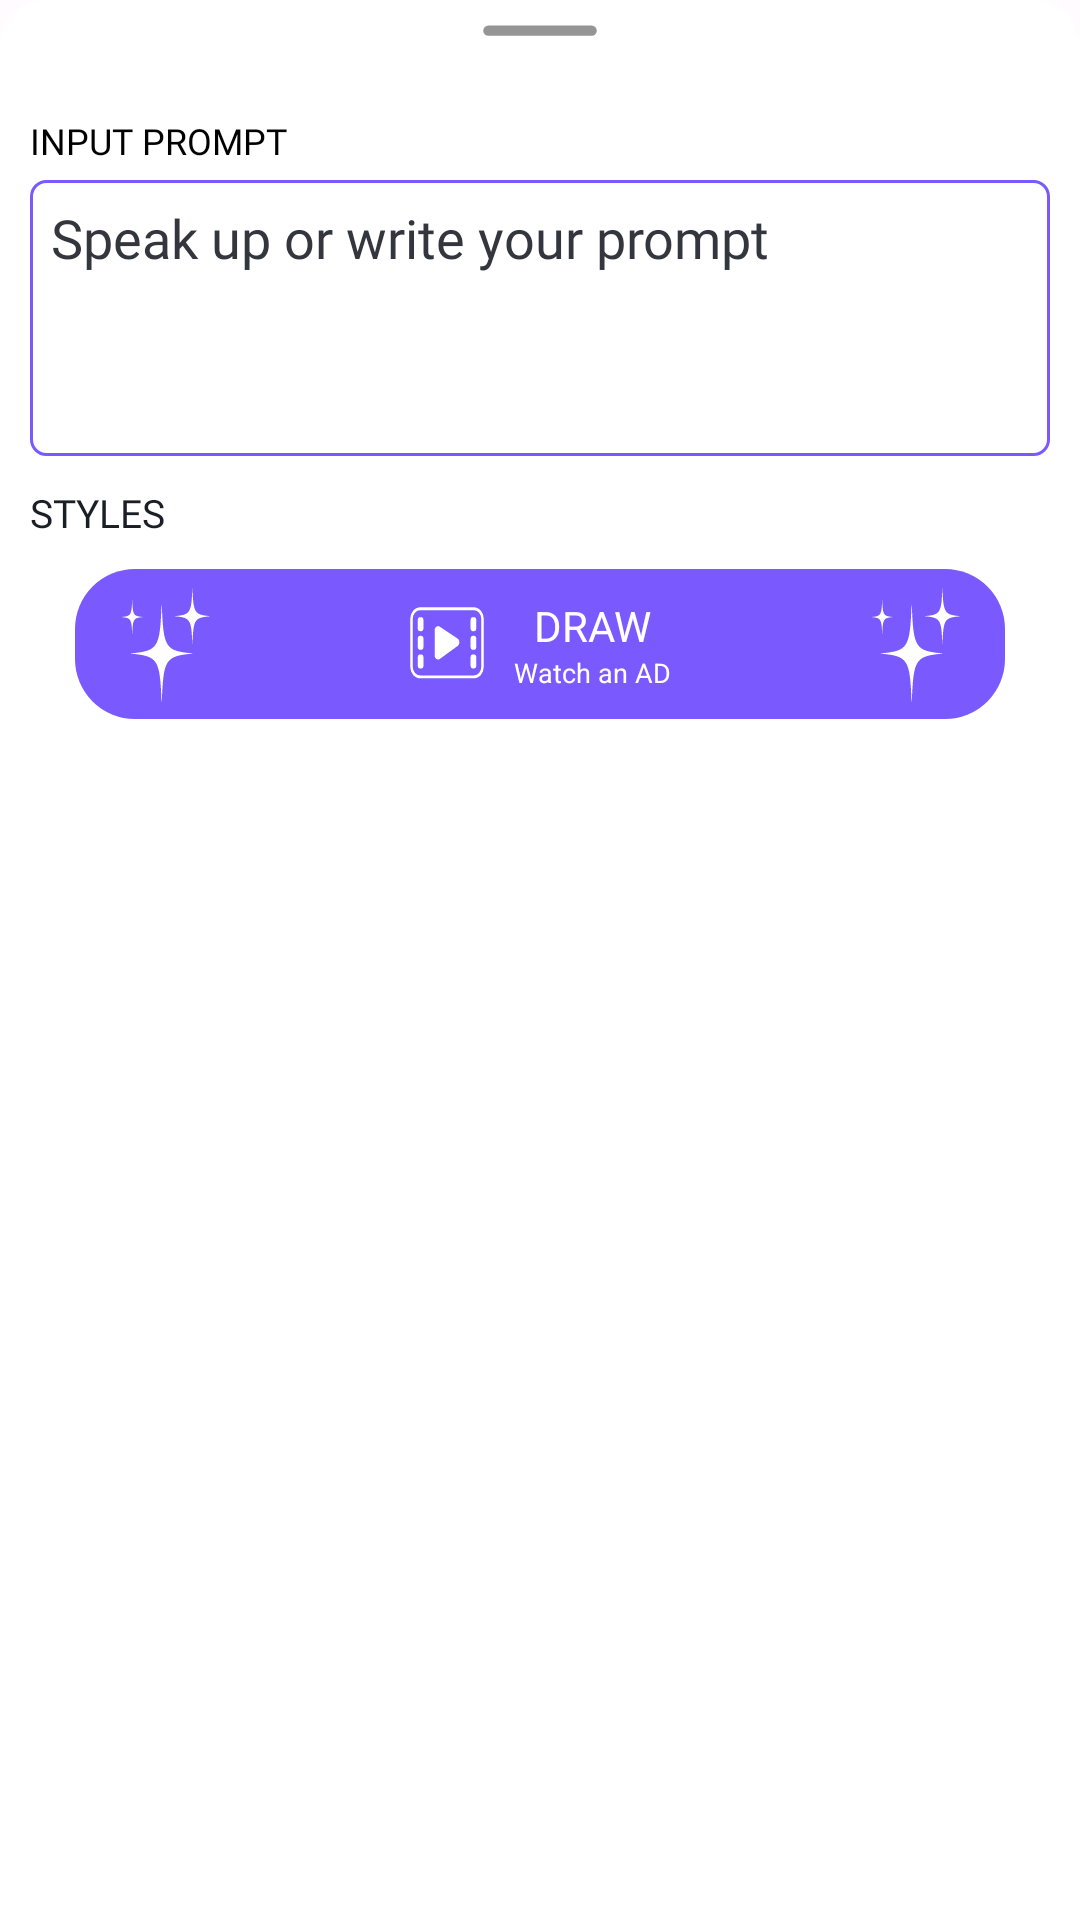

Screen size 1080px×1920px. Icon name, then its center in pixels as [x,y]:
player: [447,643]
stars: [166,645], [916,645]
